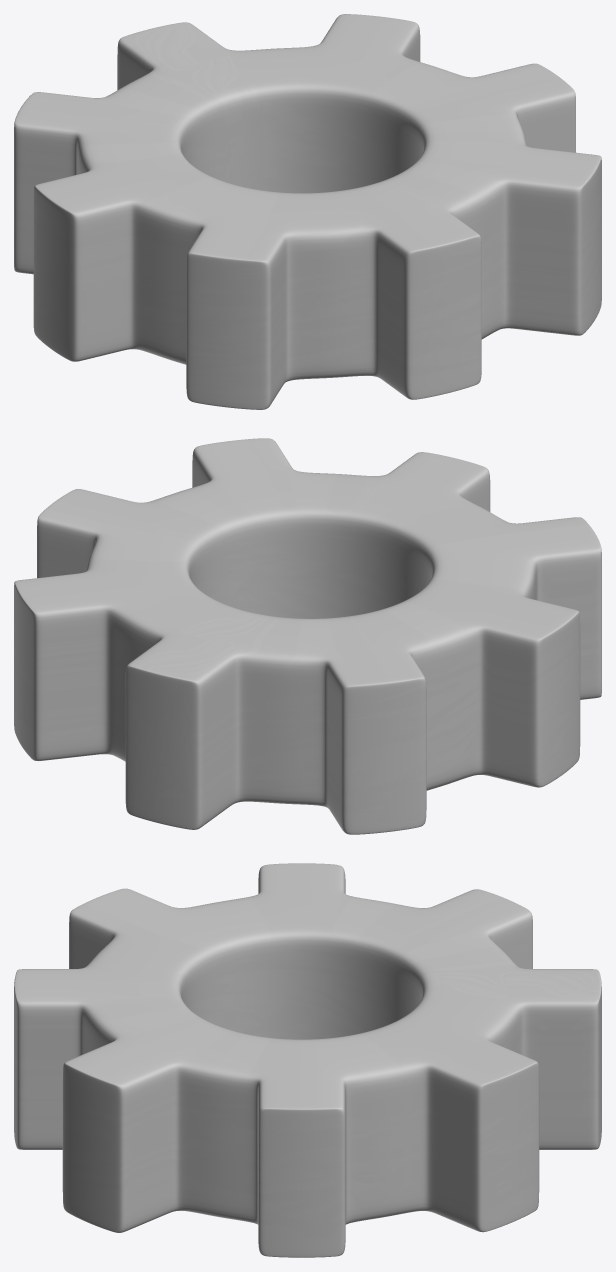
The model's file is Gear.fbx.
The picture shows the model from 3 angles, top to bottom: view 1: azimuth 30°, elevation 25°; view 2: azimuth 150°, elevation 25°; view 3: azimuth 270°, elevation 25°; orthographic projection.
Parts seen in each view (by area): view 1: Cylinder; view 2: Cylinder; view 3: Cylinder.
Part boxes in pixels (x1,y1,x2,y2): Cylinder: [14, 14, 601, 409]; Cylinder: [14, 438, 601, 834]; Cylinder: [14, 863, 601, 1257].
Size of the model in its own units: 260 by 73.31 by 262.
